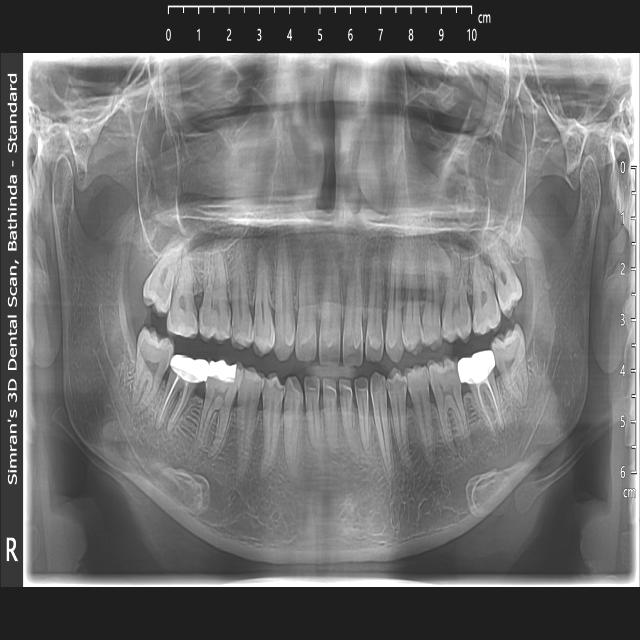Caries: (284, 373, 305, 415)
Crown: (175, 355, 235, 389), (460, 352, 493, 376)
Root Canal Treatment: (468, 350, 505, 443), (152, 368, 195, 436)
impacted tooth: (132, 326, 172, 413), (143, 238, 182, 314)
